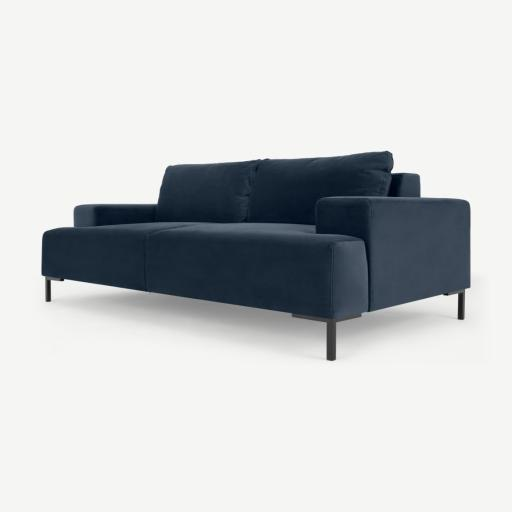back_cushion: (156, 152, 393, 224)
left_arm: (317, 197, 470, 311)
legs: (293, 314, 361, 360), (444, 290, 465, 319), (45, 277, 64, 302)
one-seater: (0, 0, 511, 512)
right_arm: (74, 204, 155, 226)
seat_cushion: (42, 222, 367, 318)
